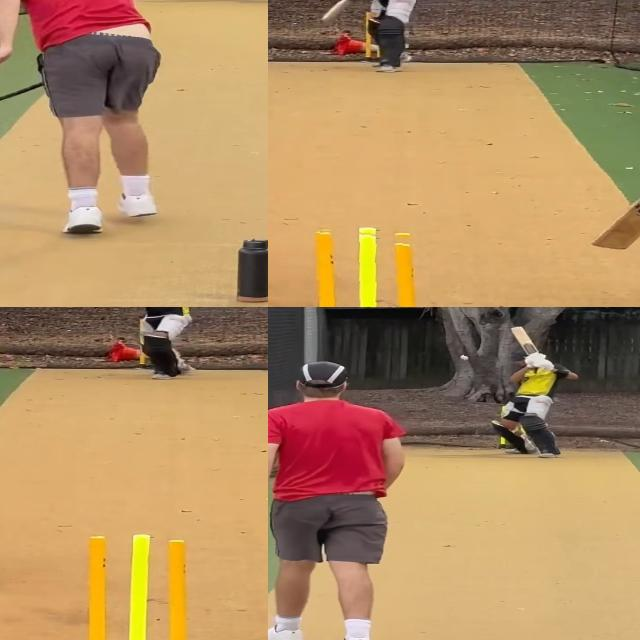Cricket ball: (458, 353, 471, 361)
Stumps: (71, 534, 205, 640), (293, 226, 430, 307)
